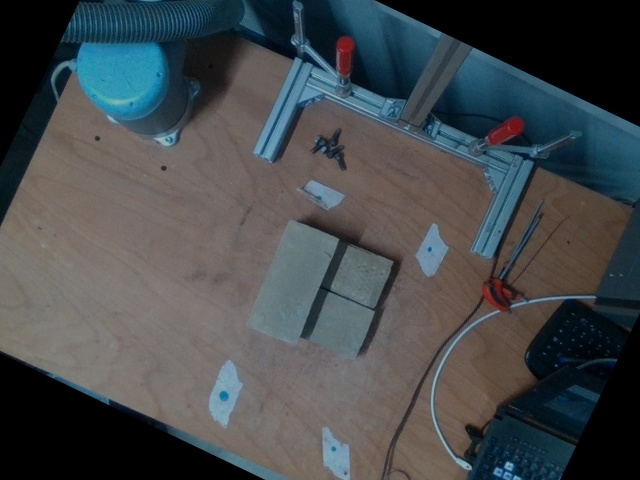brick: (244, 218, 340, 344)
